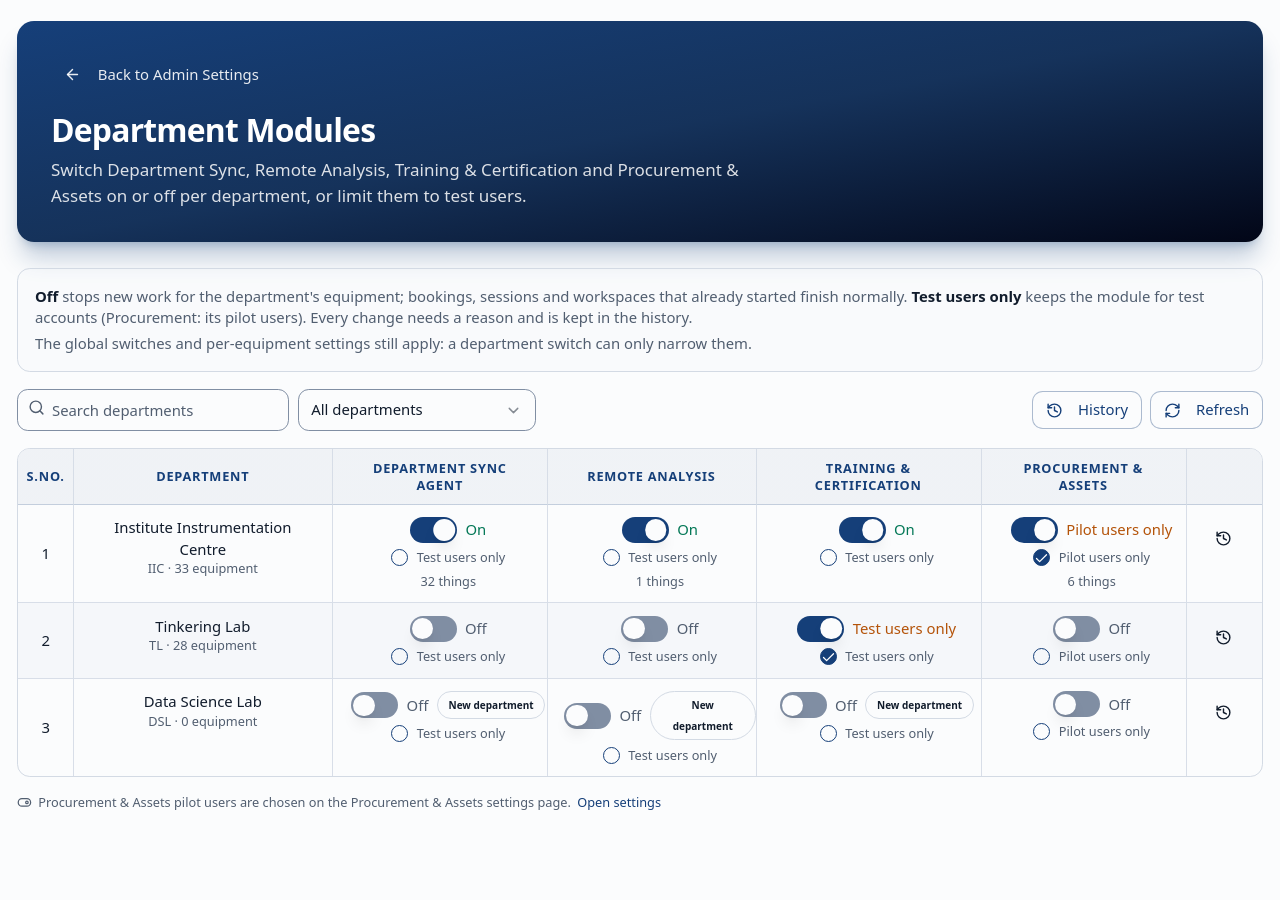
Department Modules (Main Administrator) › cancelling the reason dialog changes nothing
Click the switch named "Department Sync Agent for Tinkering Lab".
click(433, 629)  # box [410,616,457,642]
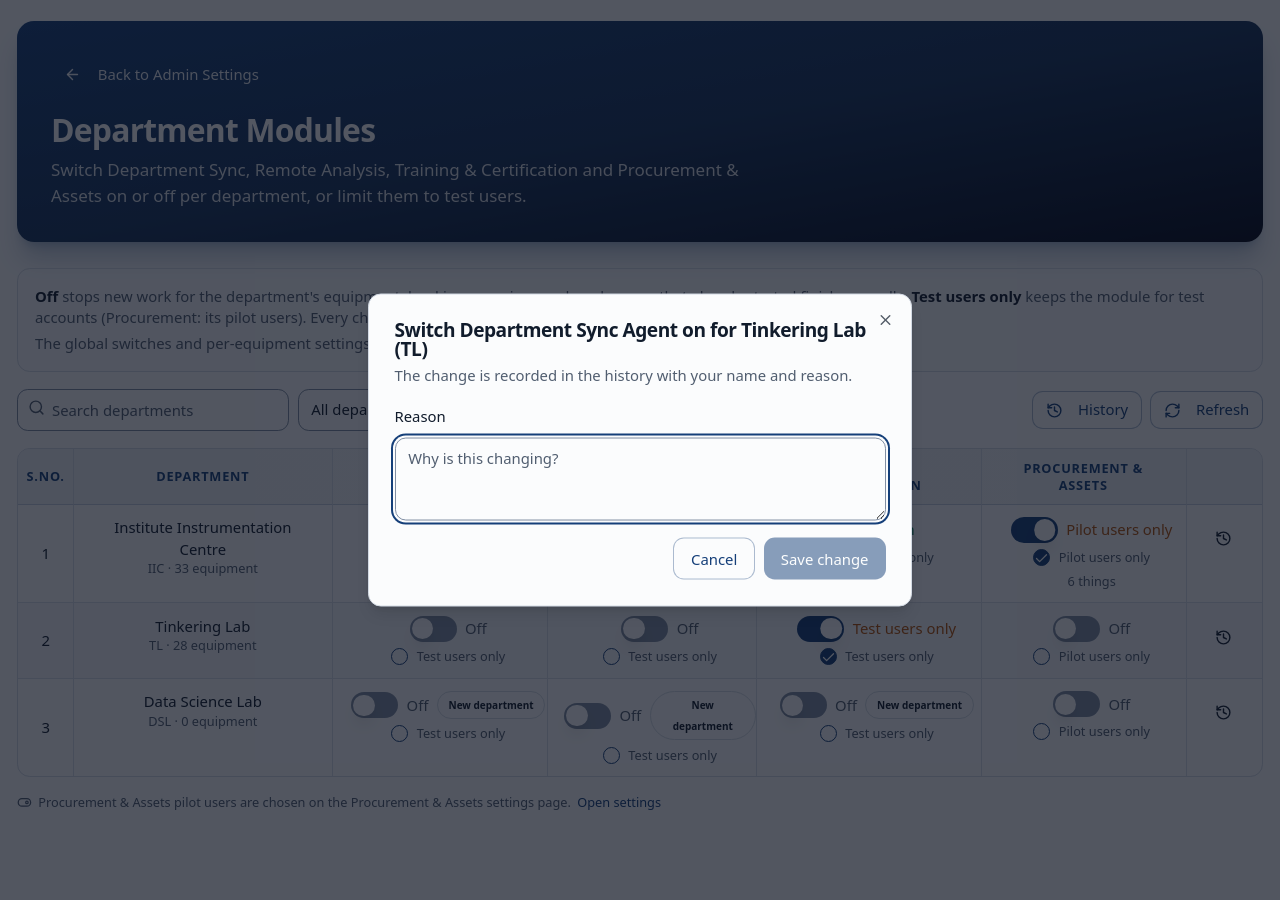
Click the button "Cancel".
click(714, 559)  # box [673,538,755,580]
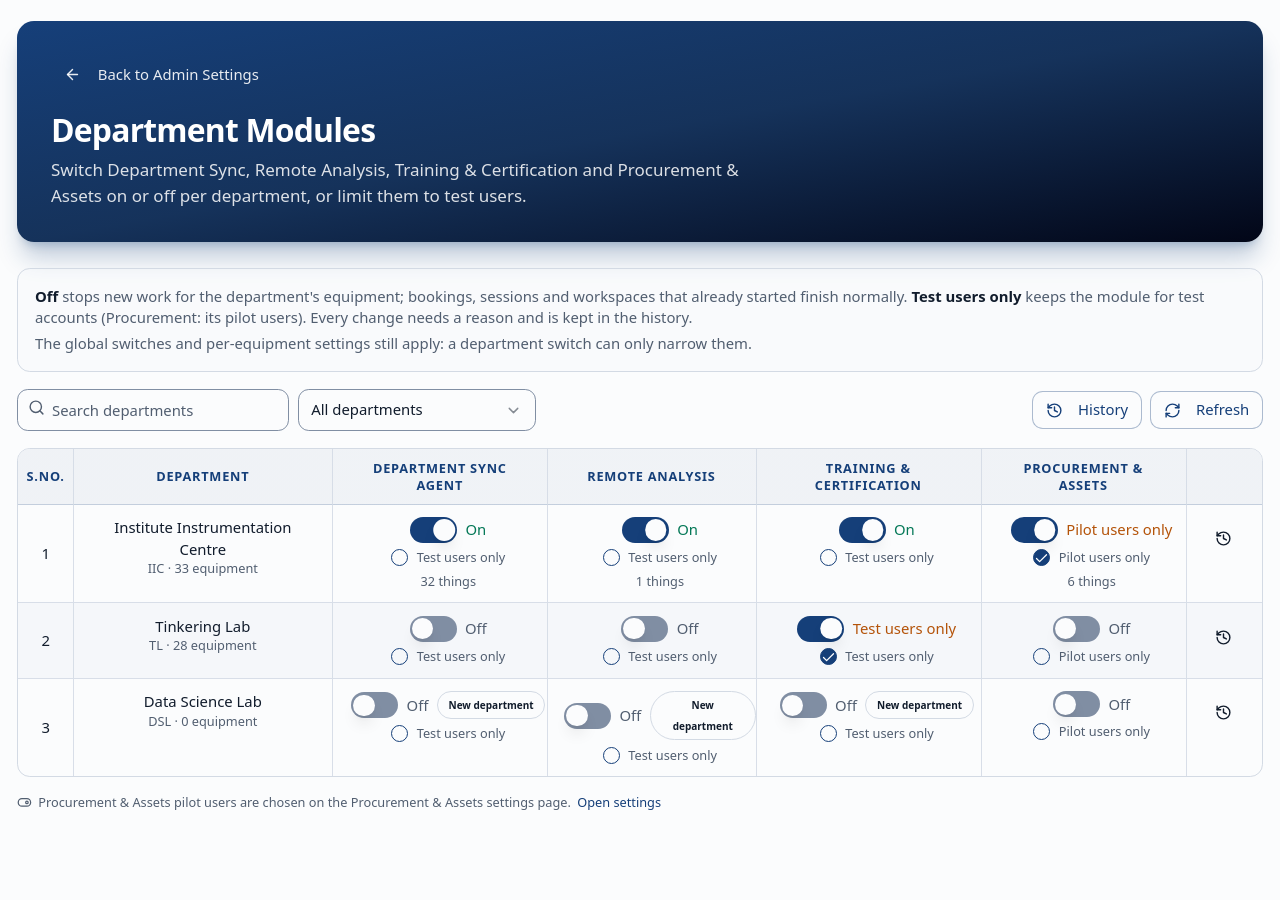
Result: the dialog is gone
